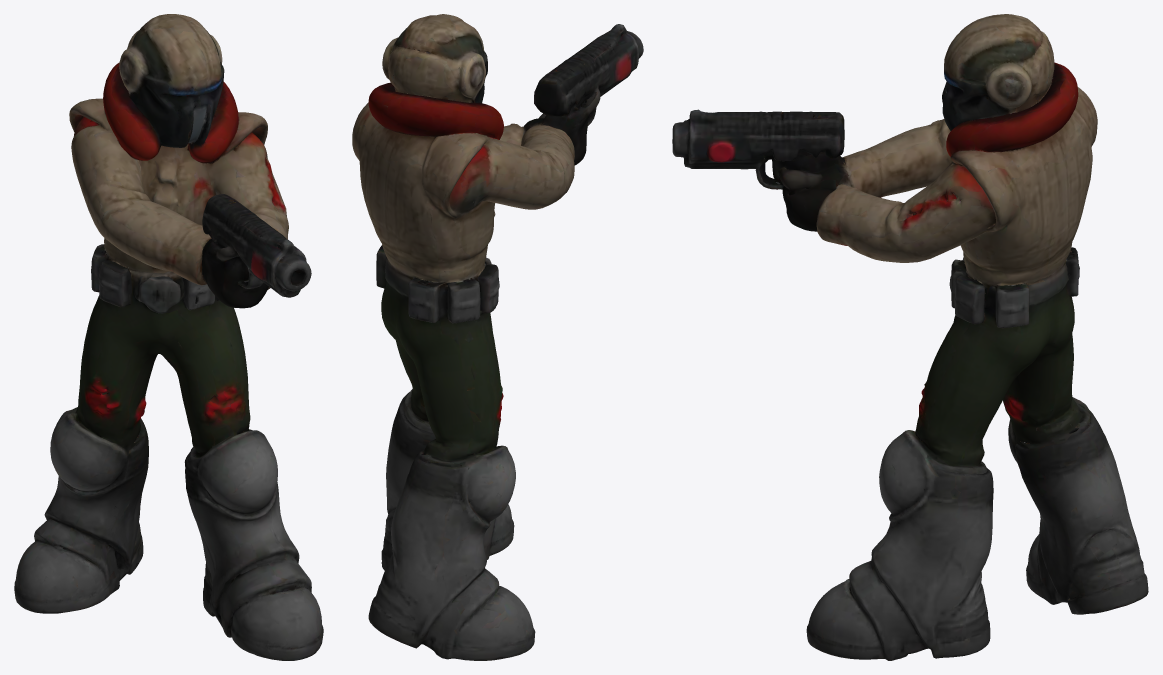
File: POSSF1_2026-08-13T220936.400.glb
3 renders of one model, left to right at view 1: azimuth 30°, elevation 25°; view 2: azimuth 150°, elevation 25°; view 3: azimuth 270°, elevation 25°, orthographic. The views are drawn at different scales.
Parts seen in each view (by area): view 1: world; view 2: world; view 3: world.
Boxes of the visible parts, box(x1,y1,x2,y2) form: world: box(14, 14, 323, 660); world: box(352, 14, 643, 660); world: box(672, 14, 1148, 660).
Bounding box in the file's own units: 0.3828 × 1 × 0.7177.
Materials: 1 (1 with a texture image).
